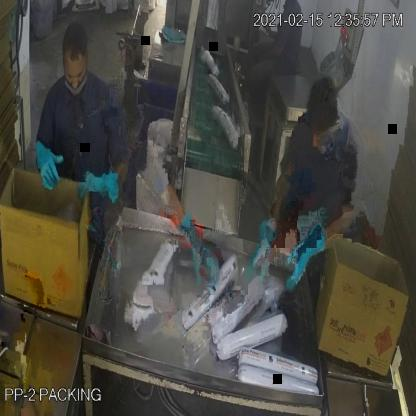glove: (288, 223, 329, 294), (34, 134, 64, 200)
